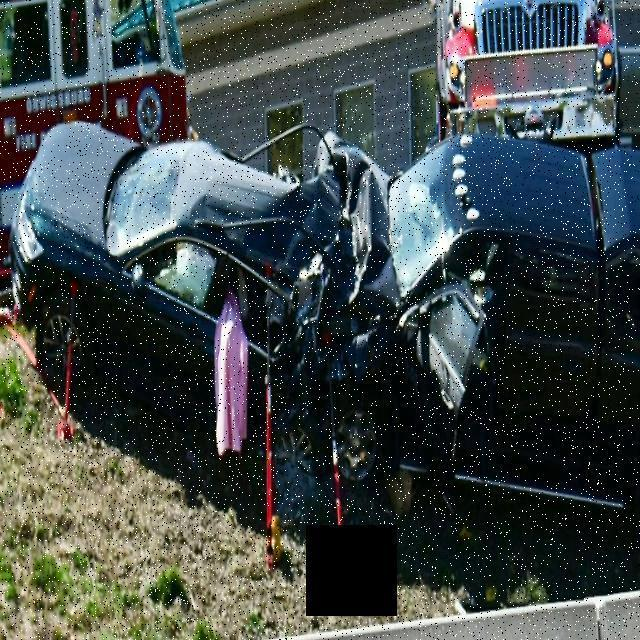multiple_accident: (3, 90, 558, 490)
